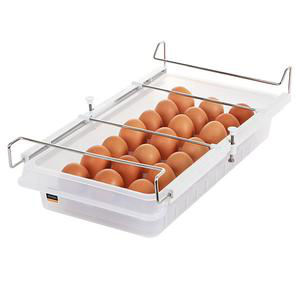egg: (61, 86, 257, 202)
